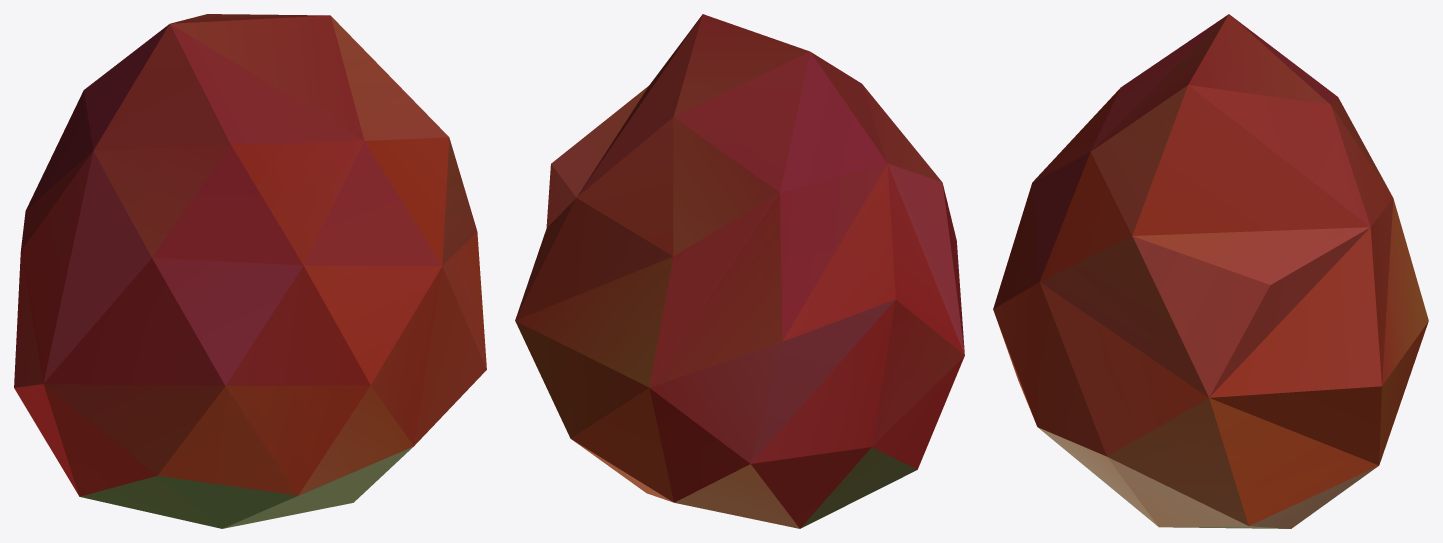
3 renders of one model, left to right at view 1: azimuth 30°, elevation 25°; view 2: azimuth 150°, elevation 25°; view 3: azimuth 270°, elevation 25°, orthographic. The views are drawn at different scales.
Parts seen in each view (by area): view 1: strawberry_05_visual; view 2: strawberry_05_visual; view 3: strawberry_05_visual.
Part boxes in pixels (bbox=[...]): strawberry_05_visual: bbox=[14, 14, 486, 528]; strawberry_05_visual: bbox=[515, 14, 964, 528]; strawberry_05_visual: bbox=[993, 14, 1428, 528].
Bounding box in the file's own units: 0.9335 × 0.8625 × 0.985.
